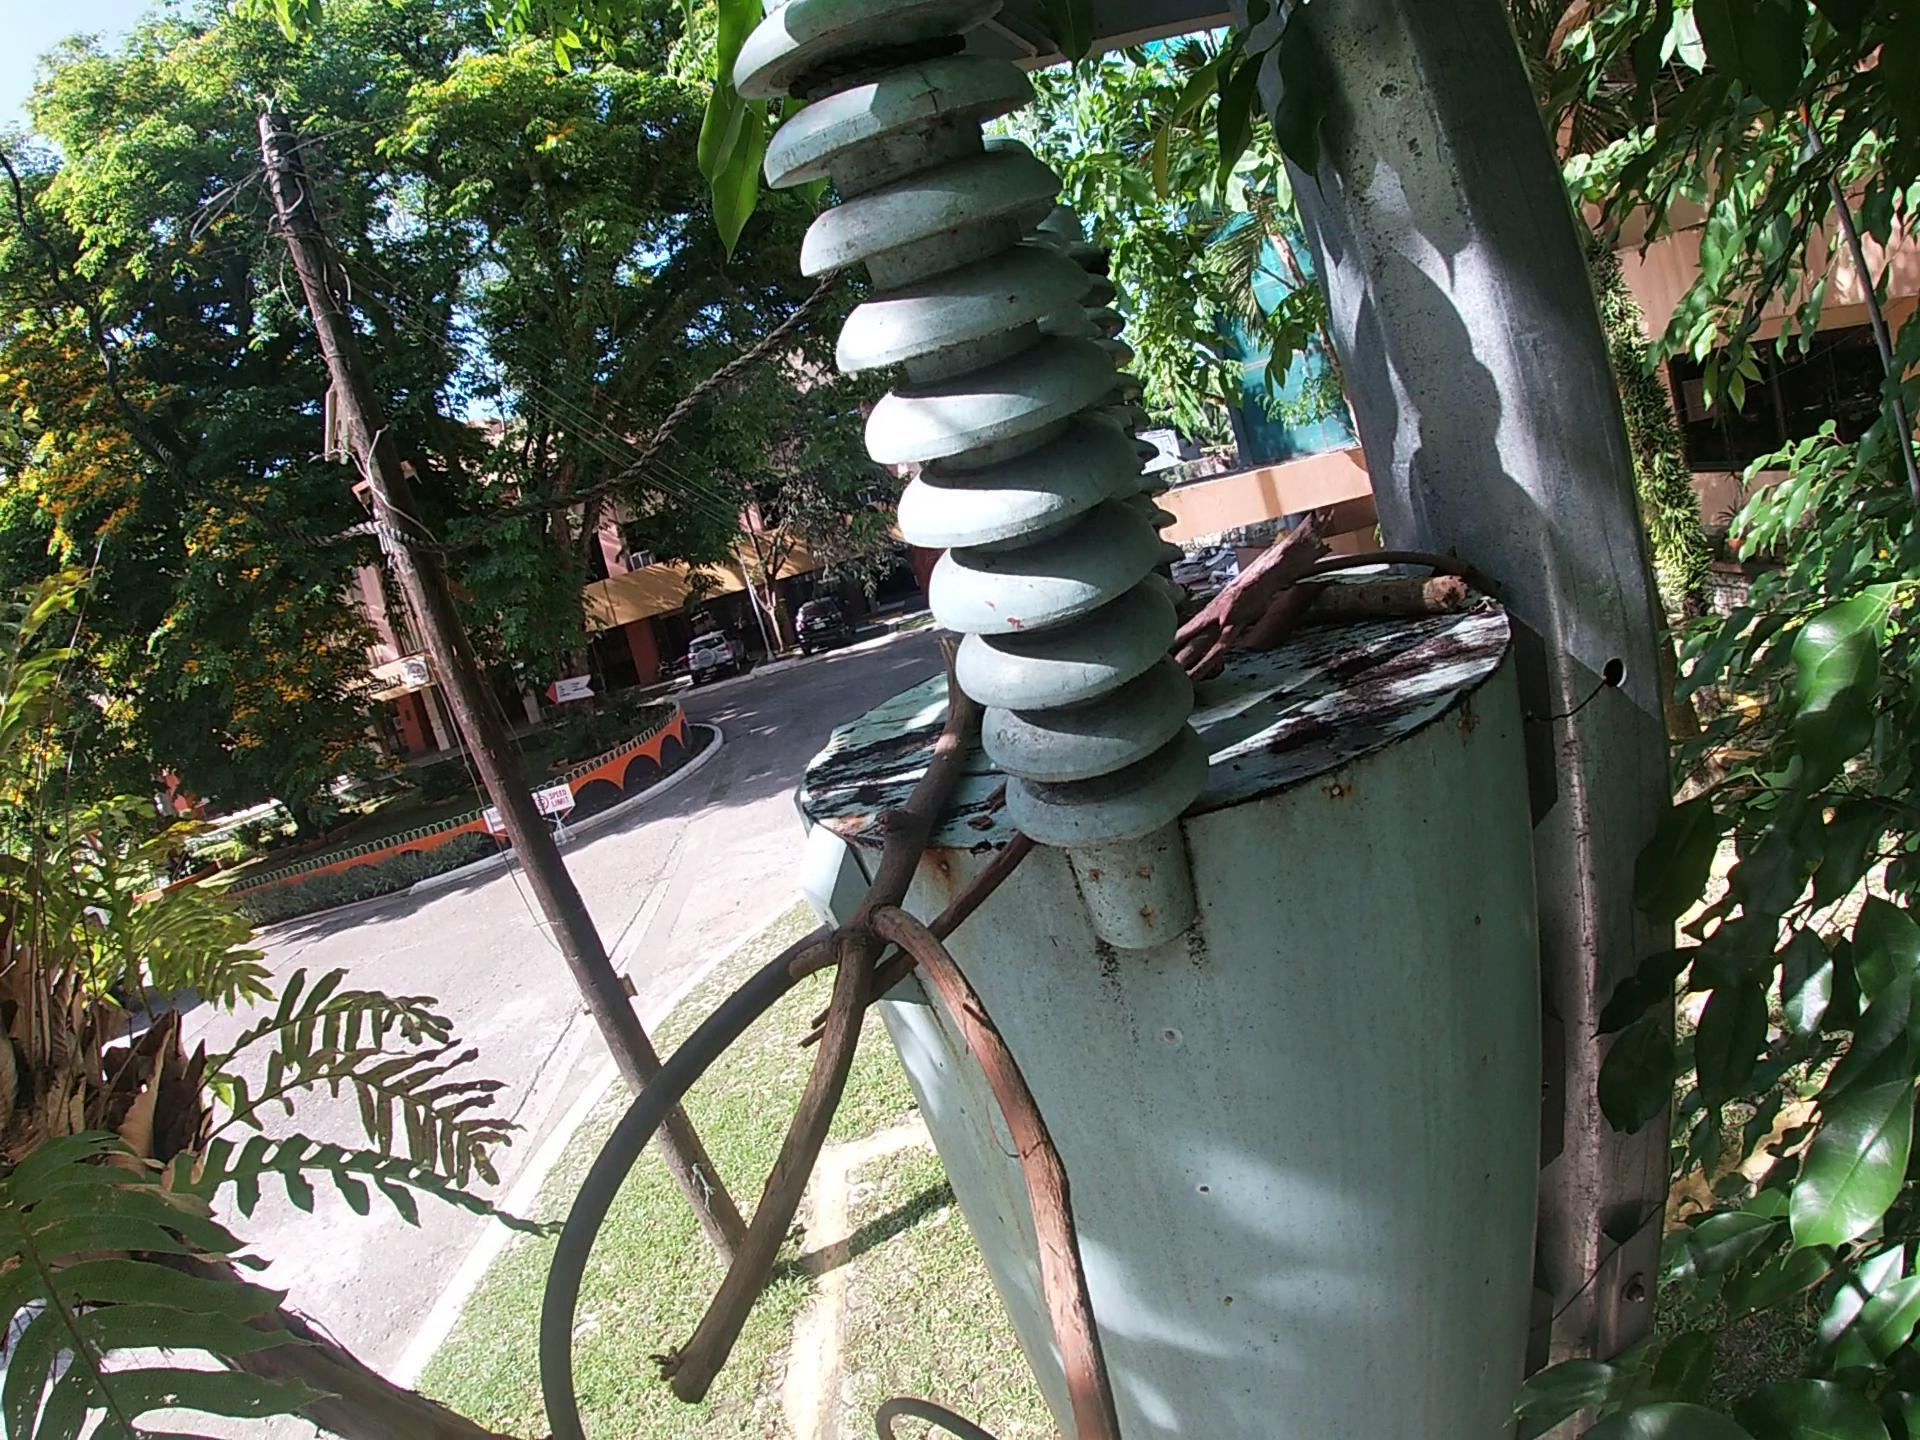leaf: (1229, 578, 1333, 661)
tree branch: (639, 619, 1131, 1438), (792, 824, 1042, 1057), (1166, 505, 1349, 691), (1256, 558, 1473, 650), (1306, 545, 1486, 588)
